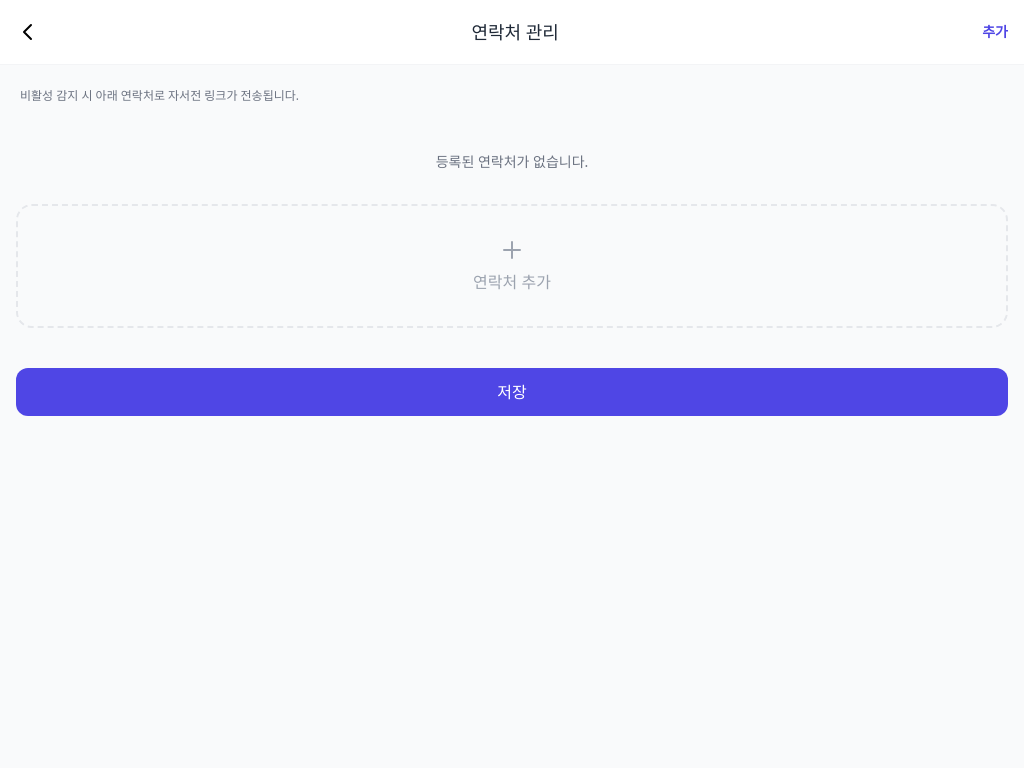
Test: ContactsClient — 와이어프레임 스타일 스펙 › BackHeader 우측 "추가" 버튼 › should add a new contact card when the header "추가" button is clicked
Expected: the header is shown, [0,0,1023,65]
# Act — click the header "추가" button
Click the button "추가". click: (995, 32)
box: [982,22,1008,42]
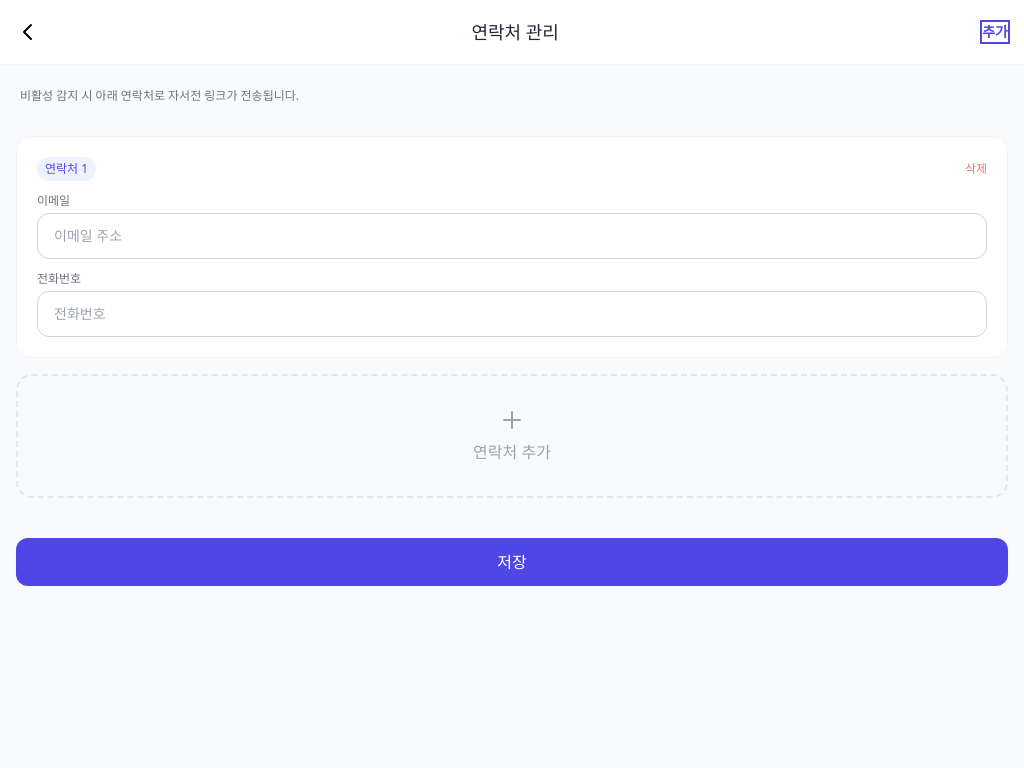
Now the number of elements with test id "contact-card" is 1, box [16,136,1008,358]
